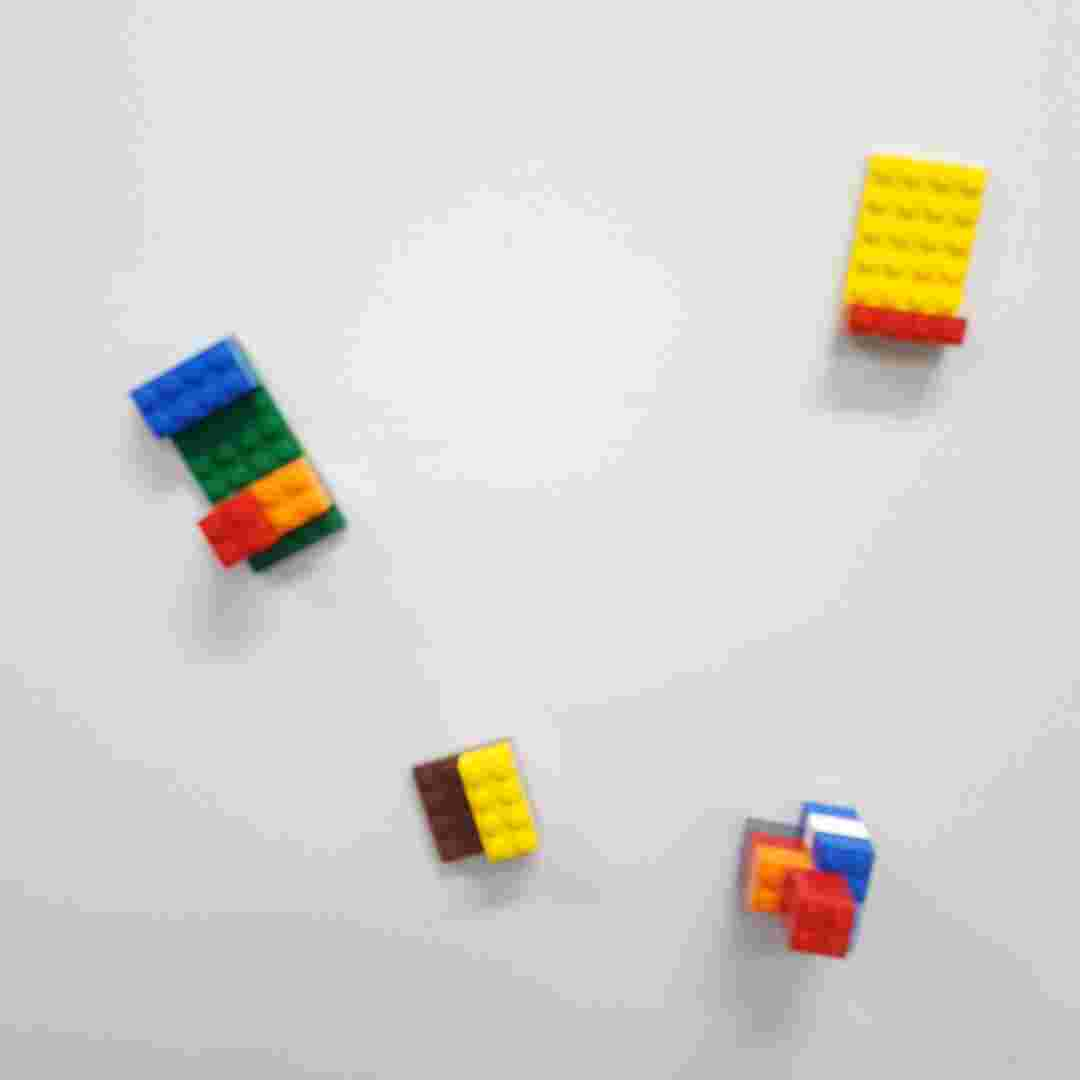LEGO: (123, 330, 346, 575), (838, 145, 987, 352), (737, 799, 879, 963), (411, 734, 544, 870)
